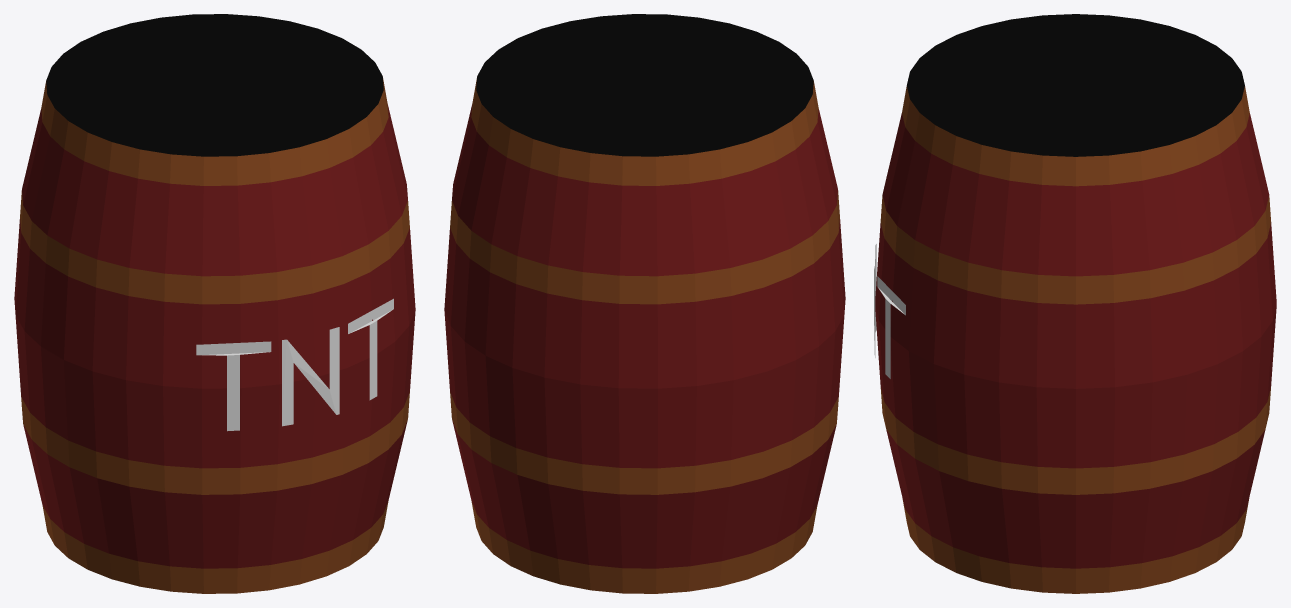
Rendered from tnt.fbx.
3 views of the same model, side by side, from view 1: azimuth 30°, elevation 25°; view 2: azimuth 150°, elevation 25°; view 3: azimuth 270°, elevation 25° (orthographic).
Visible parts, largest first — view 1: Cylinder, Text; view 2: Cylinder; view 3: Cylinder, Text.
Part boxes in pixels (x1,y1,x2,y2): Cylinder: (14,14,415,593); Text: (196,298,393,431); Cylinder: (444,14,845,593); Cylinder: (875,14,1276,593); Text: (874,244,905,378).
Size of the model in its own units: 242 by 291 by 243.
